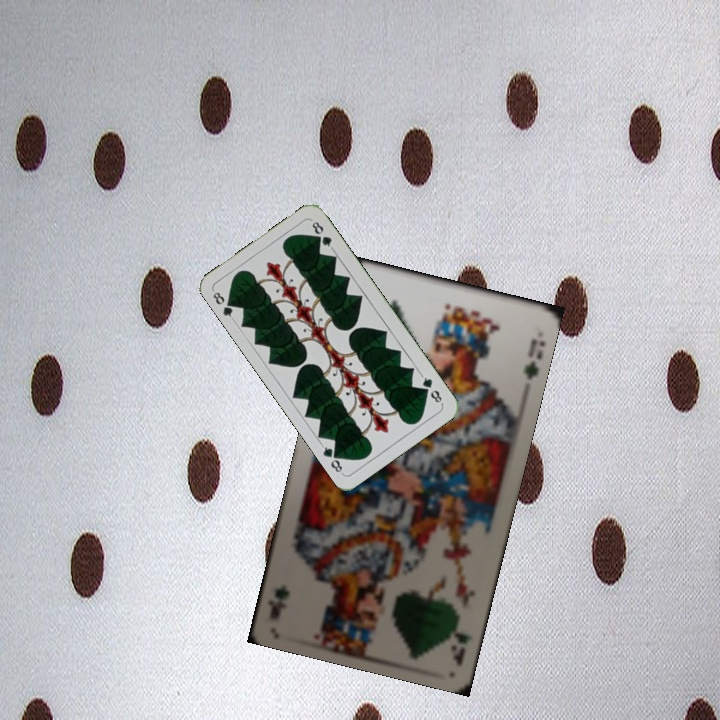G8: (209, 288, 238, 323), (417, 371, 445, 407)
GK: (446, 606, 475, 667)
